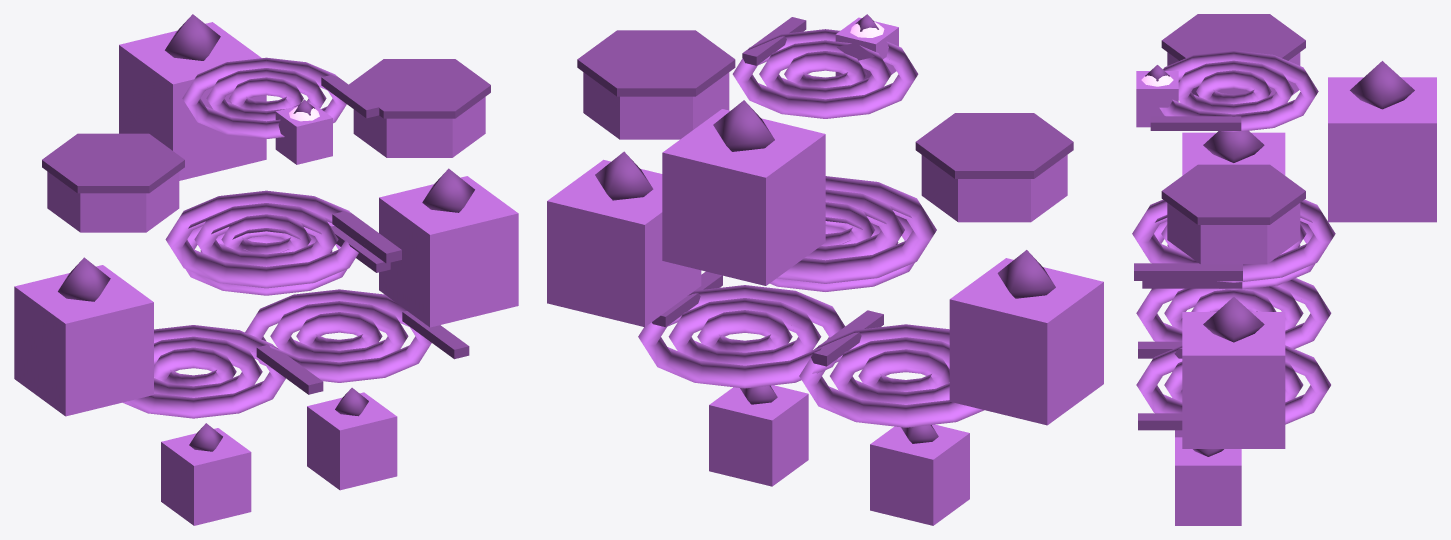
File: golem_020.glb
3 renders of one model, left to right at view 1: azimuth 30°, elevation 25°; view 2: azimuth 150°, elevation 25°; view 3: azimuth 270°, elevation 25°, orthographic. The views are drawn at different scales.
Parts seen in each view (by area): view 1: Body, Detail; view 2: Body, Detail; view 3: Body, Detail.
Part boxes in pixels (x1,y1,x2,y2): Body: (14,22,518,525); Detail: (42,14,490,451); Body: (547,17,1103,525); Detail: (577,14,1073,443); Body: (1132,50,1436,525); Detail: (1134,14,1414,456).
Size of the model in its own units: 1.22 by 1.06 by 0.7042.
